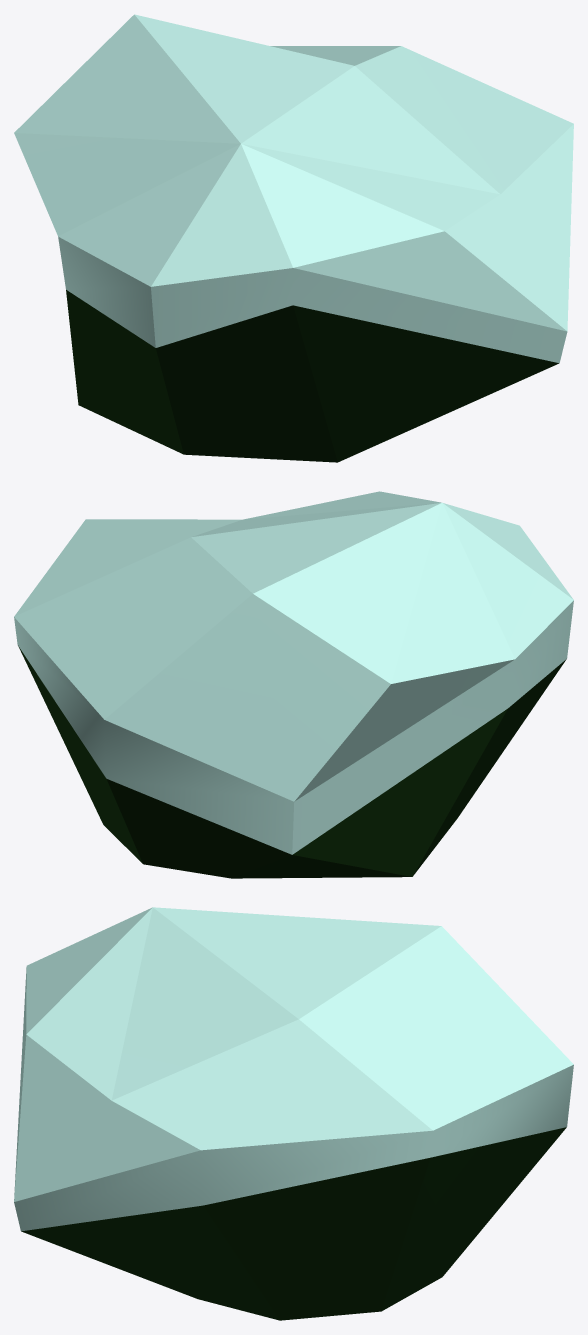
Rendered from Bush3.FBX.
The picture shows the model from 3 angles, top to bottom: view 1: azimuth 30°, elevation 25°; view 2: azimuth 150°, elevation 25°; view 3: azimuth 270°, elevation 25°; orthographic projection. The views are drawn at different scales.
Visible parts, largest first — view 1: Bush3_b, Bush3; view 2: Bush3_b, Bush3; view 3: Bush3_b, Bush3.
Part boxes in pixels (x1,y1,x2,y2): Bush3_b: (14,14,573,363); Bush3: (66,290,558,462); Bush3_b: (14,491,573,854); Bush3: (18,645,566,878); Bush3_b: (14,907,573,1231); Bush3: (21,1127,566,1320).
Bounding box in the file's own units: 3910 × 2445 × 4169.
